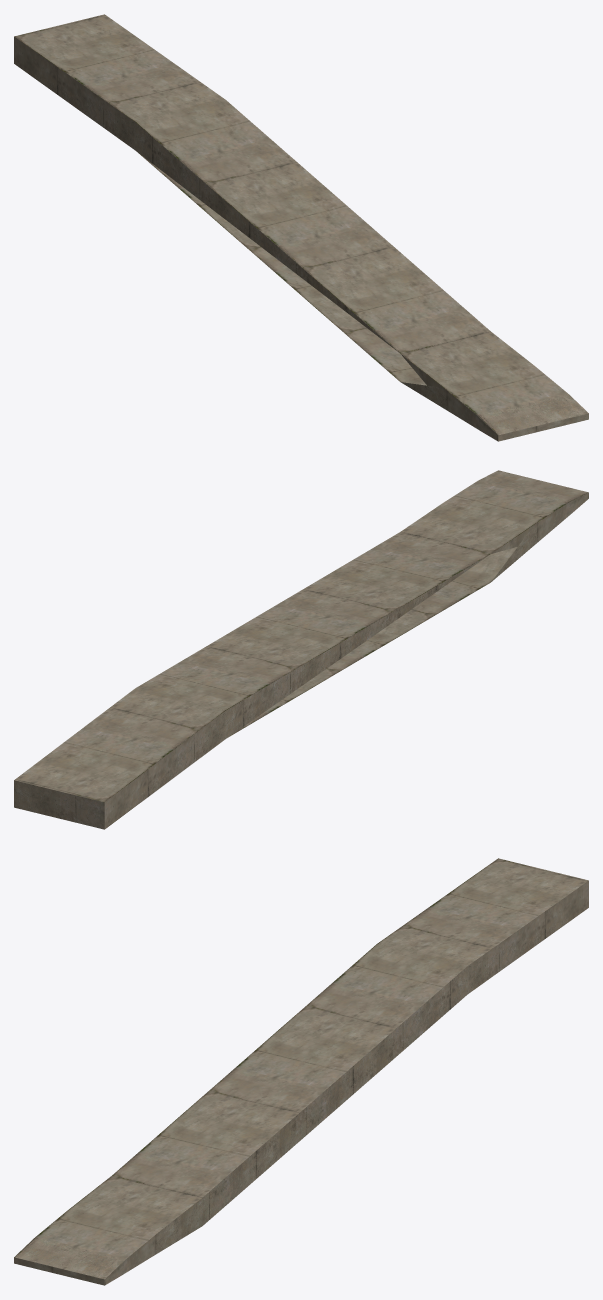
File: Walkaway.fbx
3 views of the same model, one above another, from view 1: azimuth 30°, elevation 25°; view 2: azimuth 150°, elevation 25°; view 3: azimuth 330°, elevation 25° (orthographic).
Visible parts, largest first — view 1: RoadWalkwayDouble; view 2: RoadWalkwayDouble; view 3: RoadWalkwayDouble.
Boxes of the visible parts, <box> form: RoadWalkwayDouble: <box>14,14,588,441</box>; RoadWalkwayDouble: <box>14,470,588,829</box>; RoadWalkwayDouble: <box>14,858,588,1285</box>.
Bounding box in the file's own units: 100 × 69.64 × 925.
